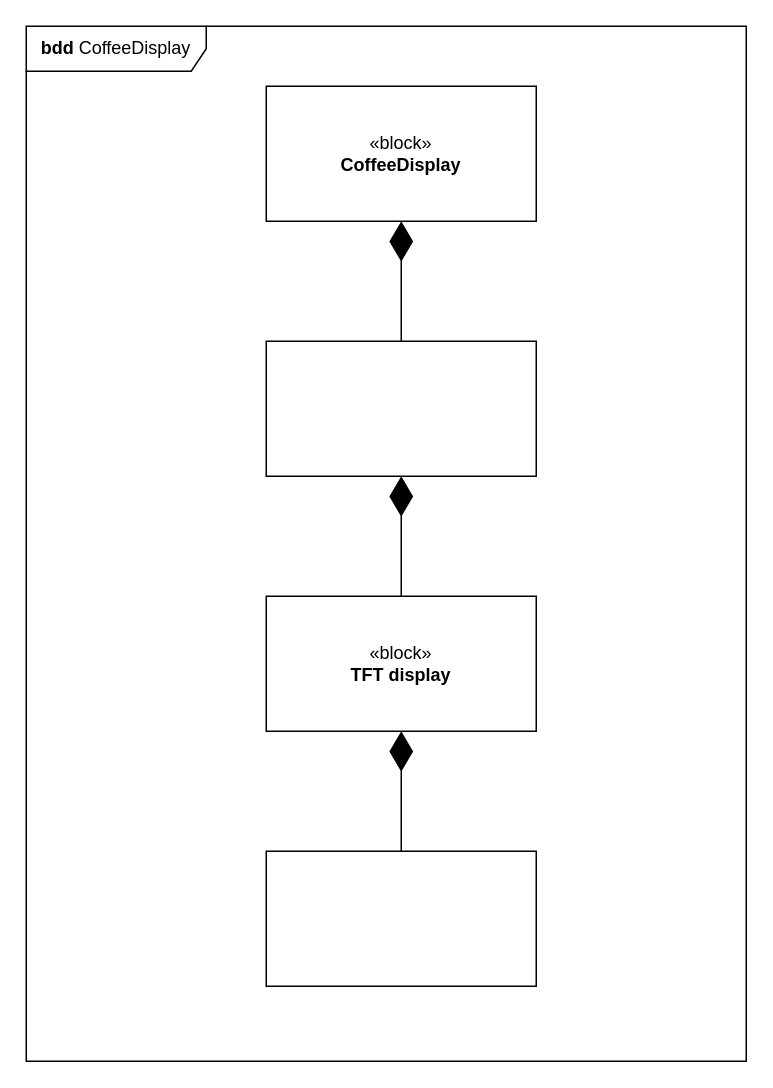
The diagram is 773 pixels wide and 1088 high, and some of its shapes have lost their labels. Each missing label, with the centre of its shape:
"«block» MCU" belongs at point 400,408.
"«block» Touchscreen" belongs at point 400,918.
